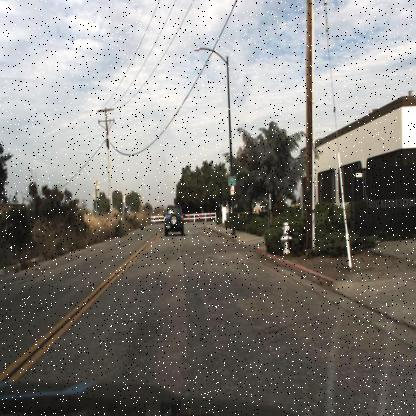car: (163, 205, 186, 236)
